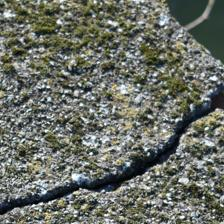Crack: (4, 50, 212, 165)
